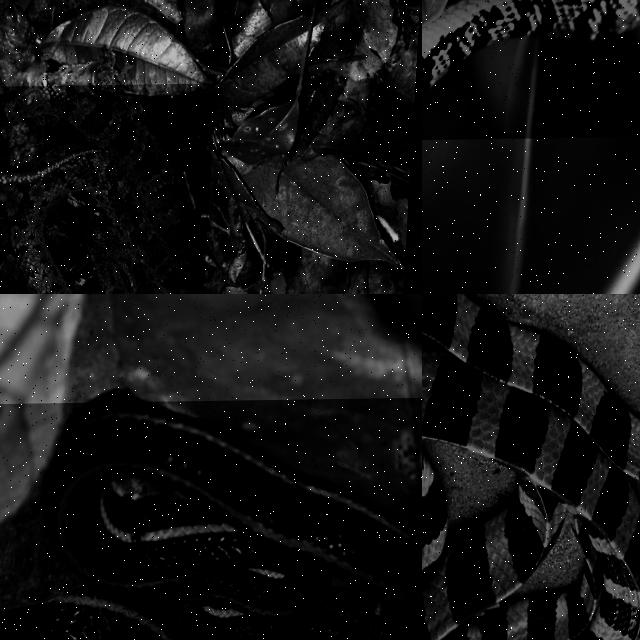Bungarus fasciatus: (422, 294, 639, 639)
Calliophis intestinalis: (0, 402, 421, 639)
Chrysopelea ornata: (422, 0, 639, 93)
Ovophis monticola: (0, 86, 203, 293)
